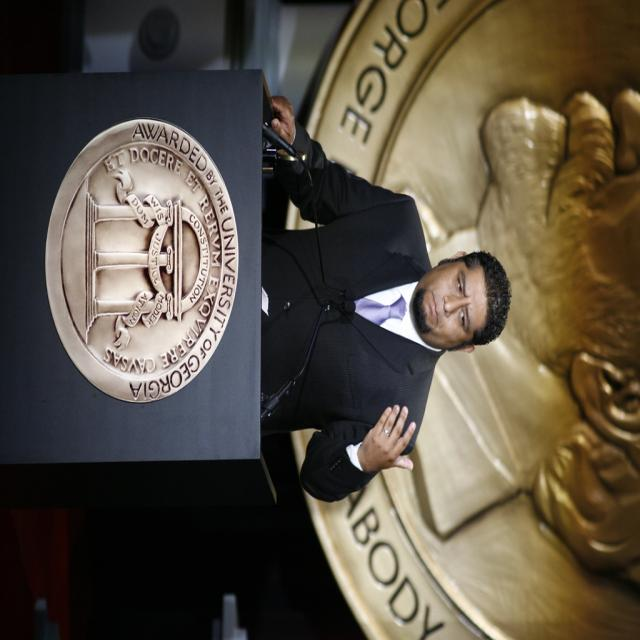Coin: (288, 0, 640, 639)
